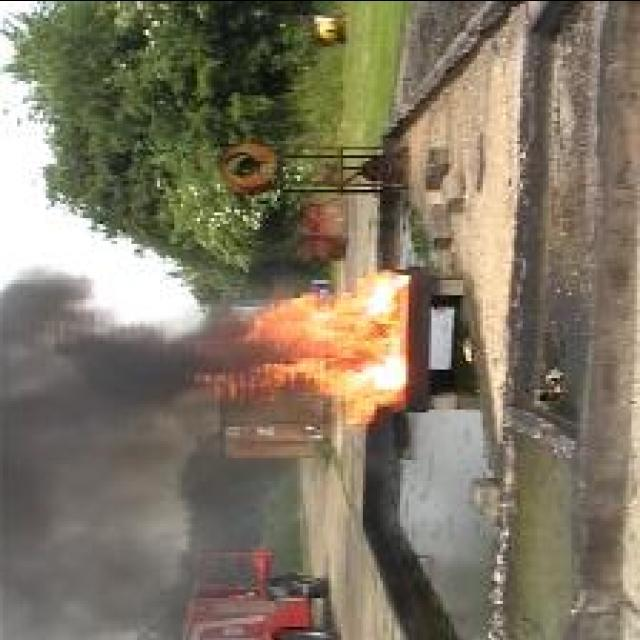Fire: (195, 267, 412, 427)
